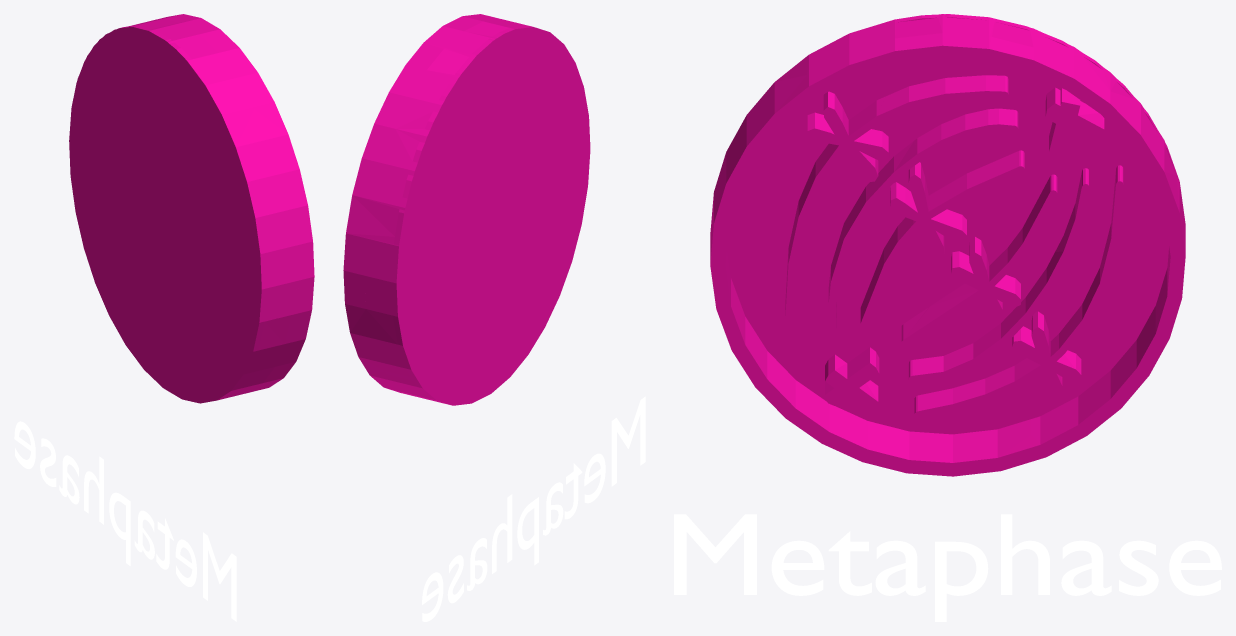
The model's file is Metaphase.glb.
3 views of the same model, side by side, from view 1: azimuth 30°, elevation 25°; view 2: azimuth 150°, elevation 25°; view 3: azimuth 270°, elevation 25° (orthographic). The views are drawn at different scales.
Parts seen in each view (by area): view 1: mitosis Metaphase; view 2: mitosis Metaphase; view 3: mitosis Metaphase.
Boxes of the visible parts, x1,y1,x2,y2 form: mitosis Metaphase: (14,14,314,621); mitosis Metaphase: (343,14,645,621); mitosis Metaphase: (674,14,1221,621).
Size of the model in its own units: 1.63 by 8.6 by 6.76.
